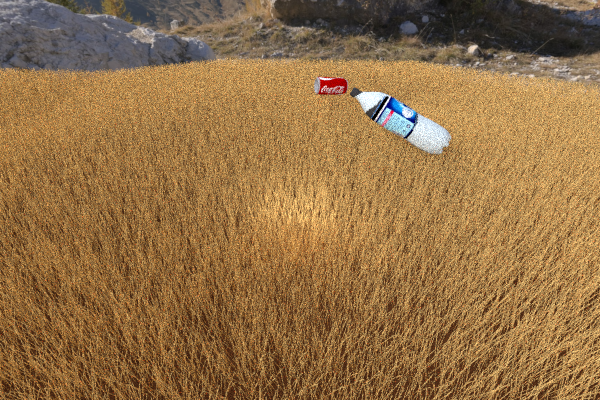Plastic Bottle: (349, 87, 451, 154), (314, 76, 348, 95)
